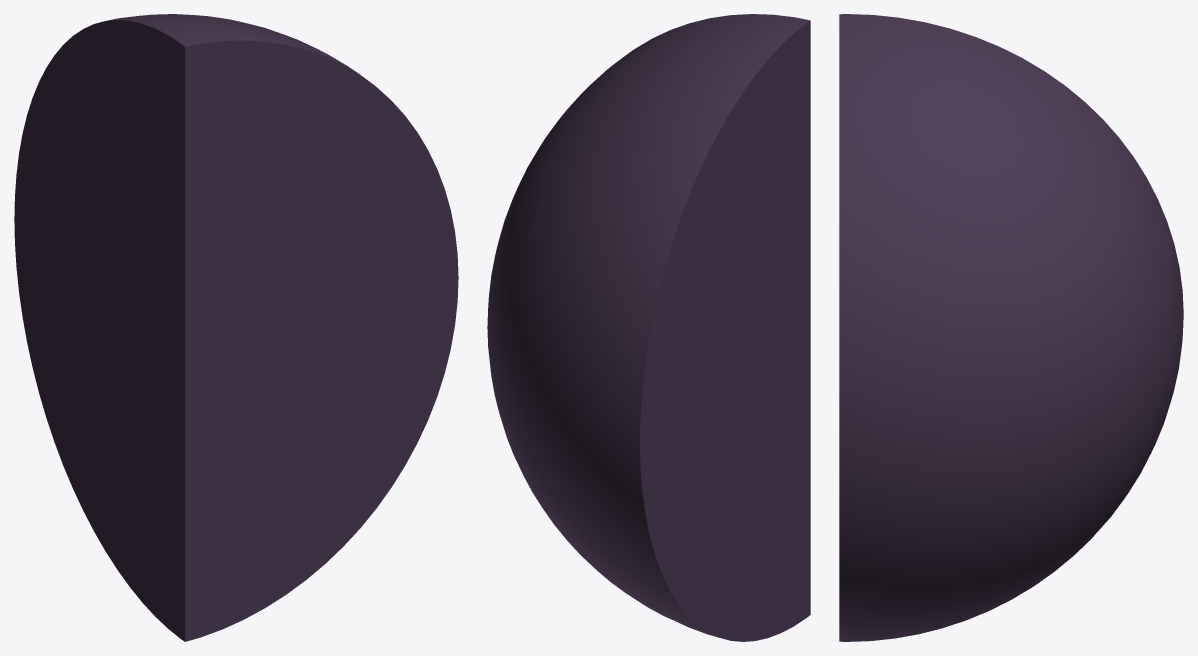
Rendered from newshu-93-f3.glb.
The picture shows the model from 3 angles, left to right: view 1: azimuth 30°, elevation 25°; view 2: azimuth 150°, elevation 25°; view 3: azimuth 270°, elevation 25°; orthographic projection.
Visible parts, largest first — view 1: newshu-93-f3; view 2: newshu-93-f3; view 3: newshu-93-f3.
Boxes of the visible parts, x1,y1,x2,y2 form: newshu-93-f3: (14,14,458,641); newshu-93-f3: (487,14,810,641); newshu-93-f3: (839,14,1183,641).
Bounding box in the file's own units: 1.84 × 3.83 × 1.99.
